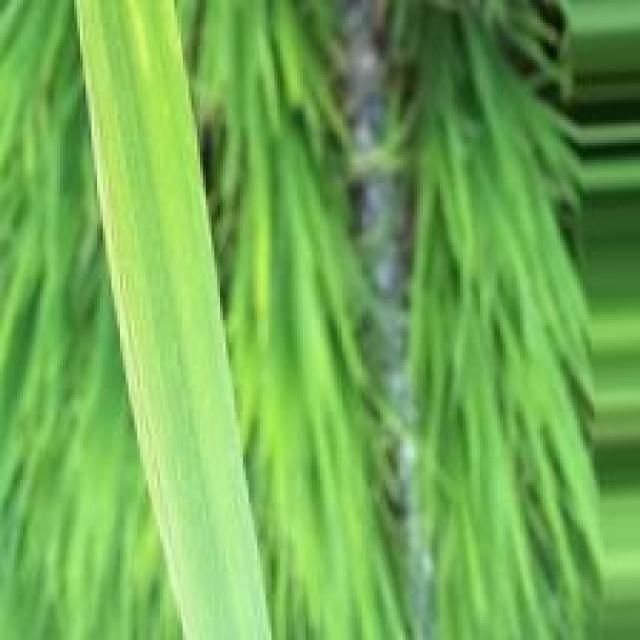HealthyLeaf: (91, 6, 248, 622)
